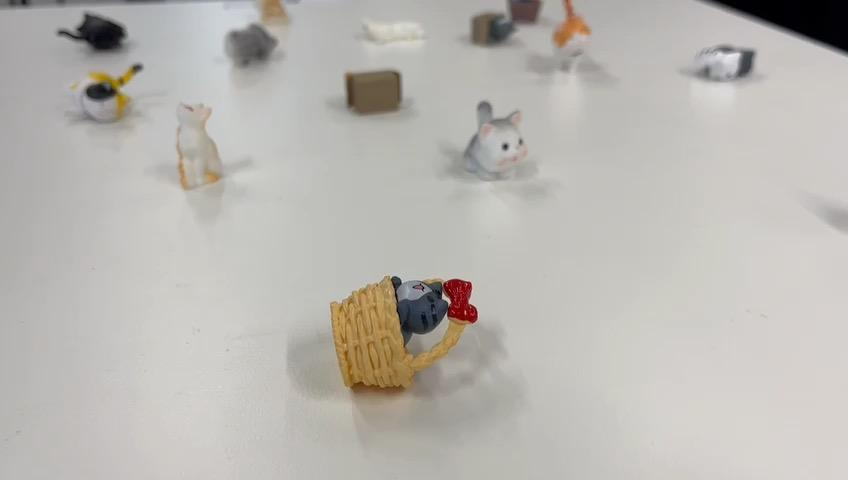pet: (306, 254, 505, 439), (141, 79, 260, 215), (446, 99, 543, 187), (683, 14, 767, 112), (306, 54, 410, 124), (63, 49, 148, 118), (53, 0, 152, 52), (213, 21, 281, 90), (456, 0, 527, 62), (551, 11, 602, 87), (356, 0, 425, 49)
